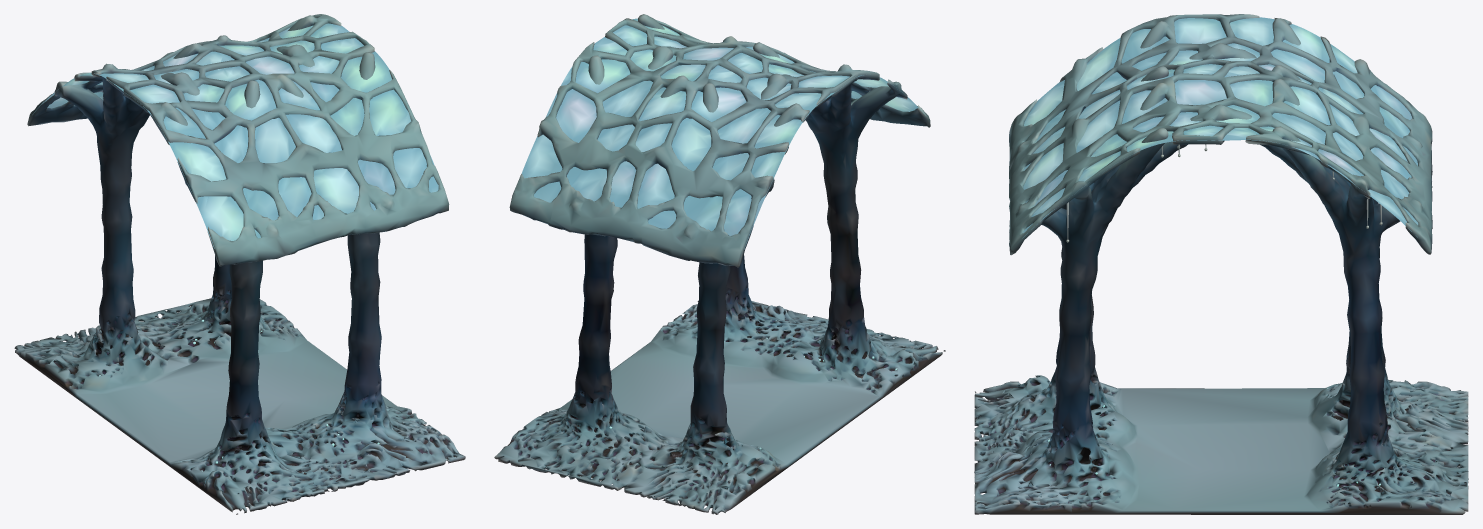
The model's file is gecit_duz.glb.
3 views of the same model, side by side, from view 1: azimuth 30°, elevation 25°; view 2: azimuth 150°, elevation 25°; view 3: azimuth 270°, elevation 25° (orthographic). The views are drawn at different scales.
Parts seen in each view (by area): view 1: gecit_duz_LOD0; view 2: gecit_duz_LOD0; view 3: gecit_duz_LOD0.
Part boxes in pixels (x1,y1,x2,y2): gecit_duz_LOD0: [14, 14, 465, 514]; gecit_duz_LOD0: [494, 14, 945, 514]; gecit_duz_LOD0: [974, 14, 1468, 514].
Size of what is drawn, in the model's own units: 8 by 11.52 by 13.55.
